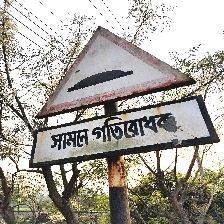Speed-breaker: (32, 27, 217, 167)
